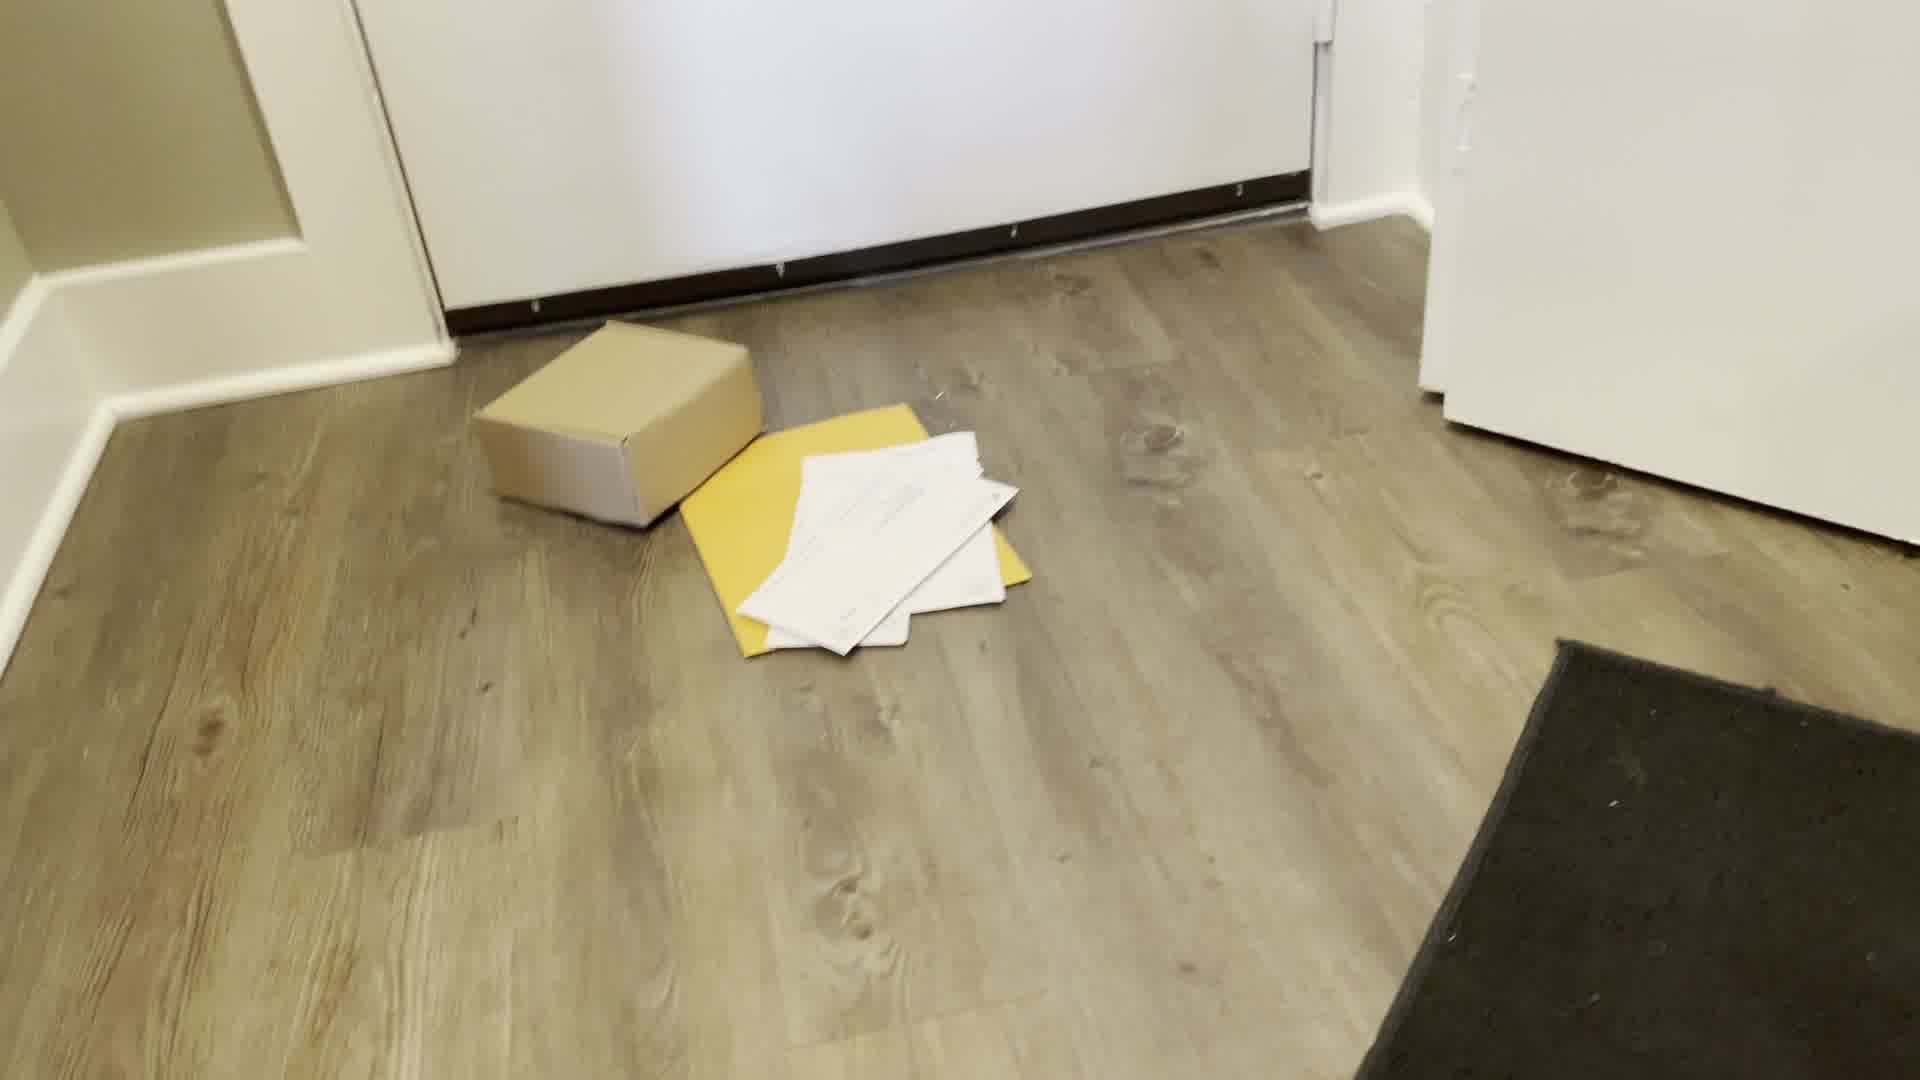box: (465, 316, 771, 545)
envelope: (678, 396, 1062, 671)
